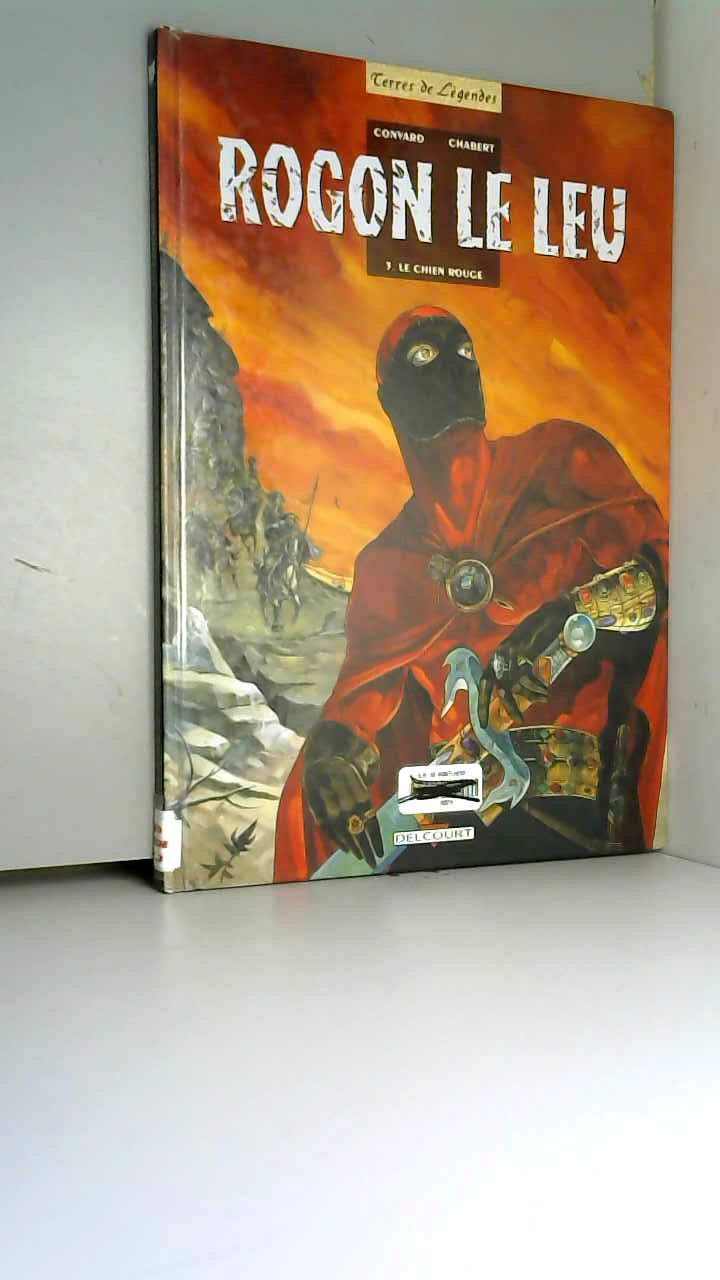book: (120, 0, 720, 916)
